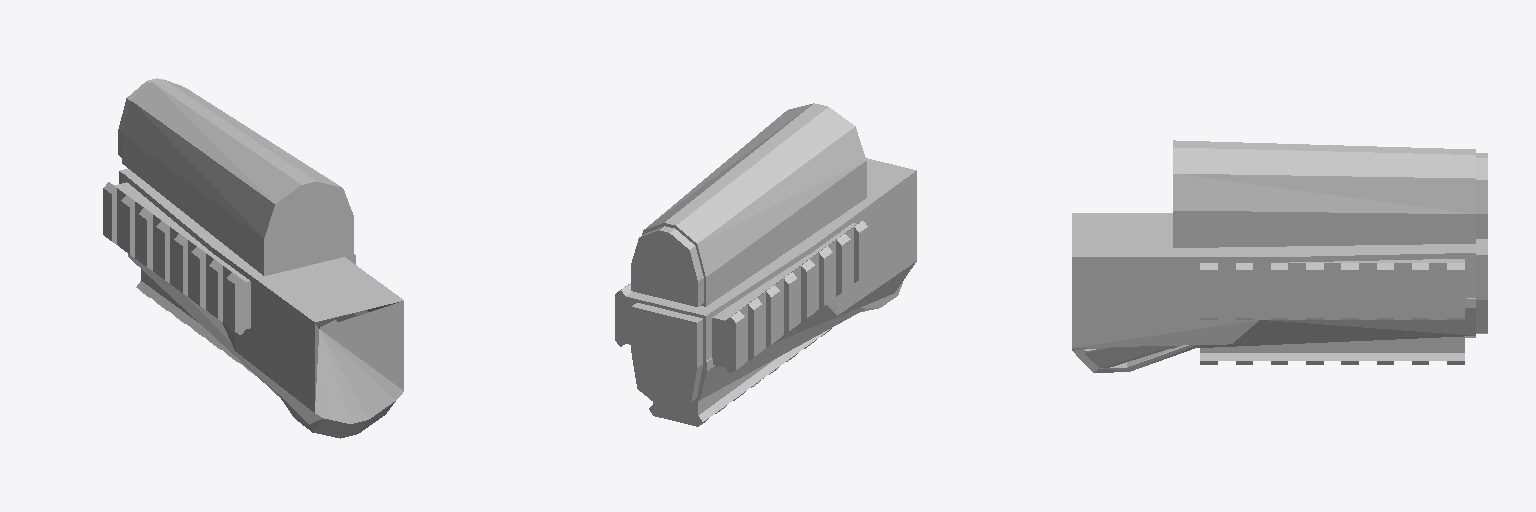
The model's file is Grip1.obj.
The picture shows the model from 3 angles: view 1: azimuth 30°, elevation 25°; view 2: azimuth 150°, elevation 25°; view 3: azimuth 270°, elevation 25°; orthographic projection.
Visible parts, largest first — view 1: Cube.005_Cube.001; view 2: Cube.005_Cube.001; view 3: Cube.005_Cube.001.
Boxes of the visible parts, x1,y1,x2,y2 form: Cube.005_Cube.001: [103, 78, 403, 438]; Cube.005_Cube.001: [615, 103, 916, 426]; Cube.005_Cube.001: [1072, 140, 1487, 372].
Bounding box in the file's own units: 0.0727 × 0.1288 × 0.2165.